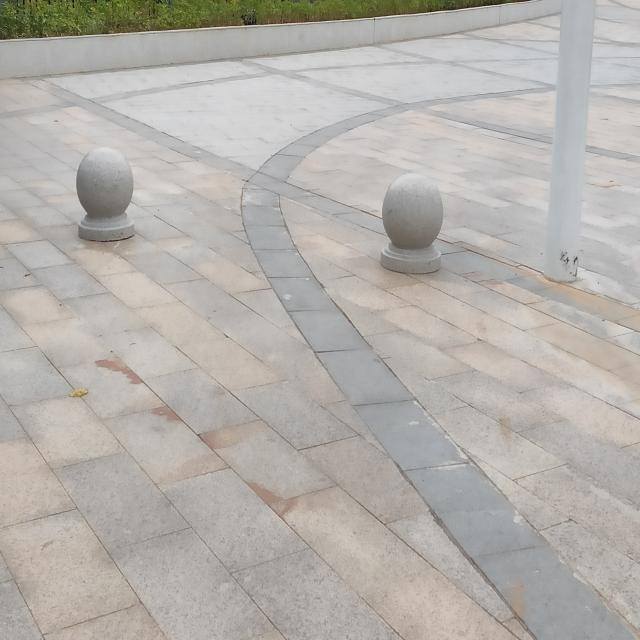spherical_roadblock: (373, 168, 449, 278), (70, 144, 138, 242)
